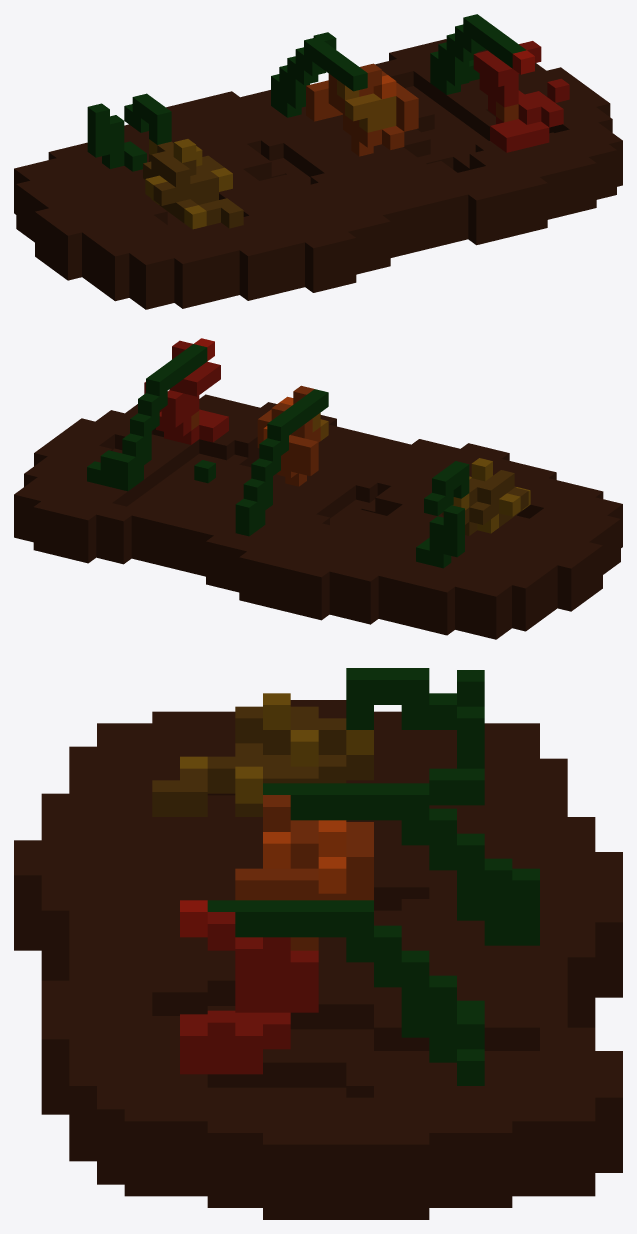
The model's file is Kuerbis25.obj.
The picture shows the model from 3 angles, top to bottom: view 1: azimuth 30°, elevation 25°; view 2: azimuth 150°, elevation 25°; view 3: azimuth 270°, elevation 25°; orthographic projection. The views are drawn at different scales.
Size of the model in its own units: 3.8 by 0.9 by 2.2.
1 material, 1 textured.
